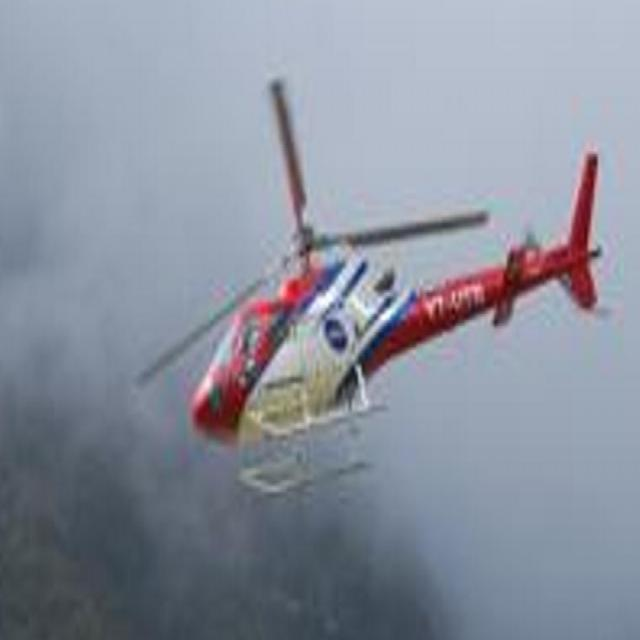helicopter: (141, 82, 602, 502)
